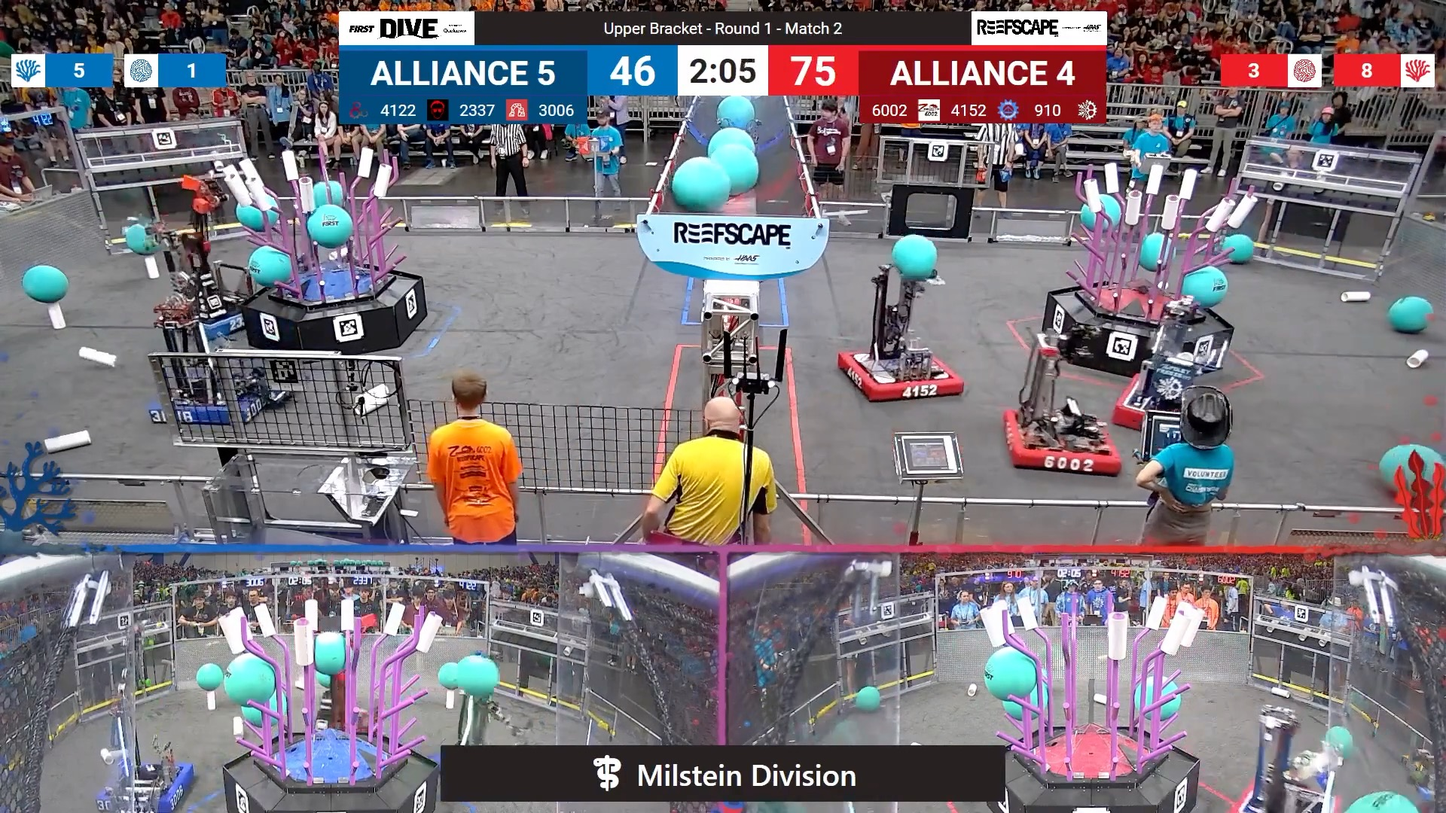bumpers: (993, 406, 1125, 480), (828, 343, 973, 409), (145, 375, 270, 430), (94, 753, 200, 811)
